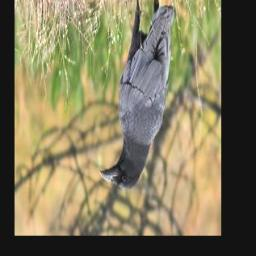Crow: (101, 0, 177, 191)
